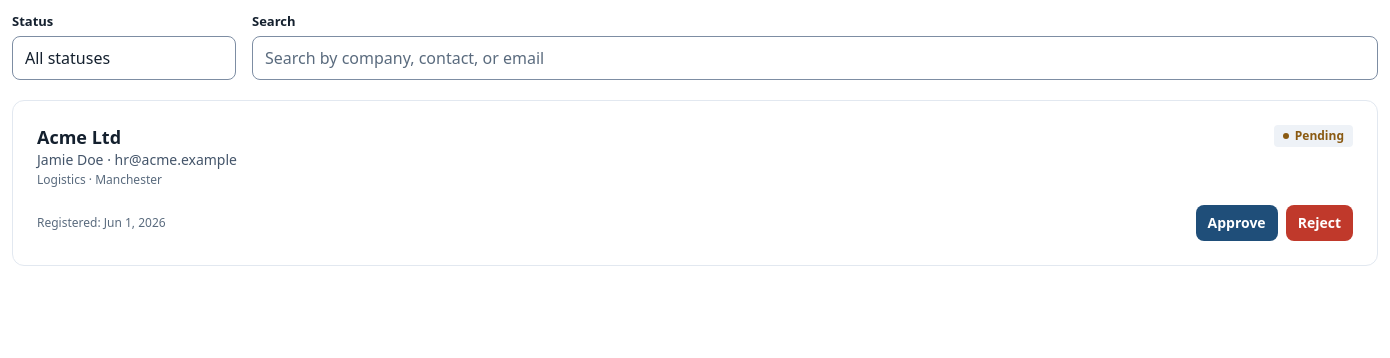
Test case: EmployerApprovalQueue › approves a pending employer and shows success feedback
Step 1. Click the button "Approve" → click(1237, 223), box [1196,205,1278,241]
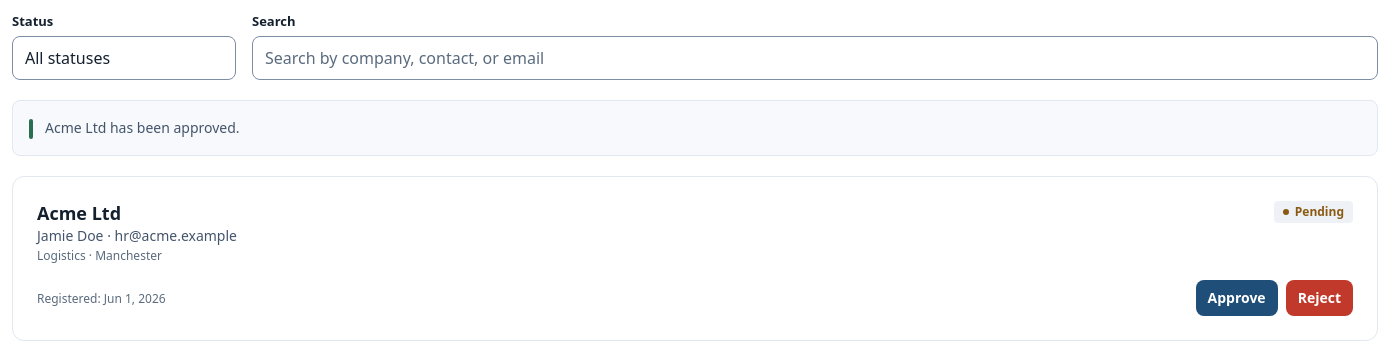
Expected: the text "Acme Ltd has been approved." is shown, [45,118,240,137]
